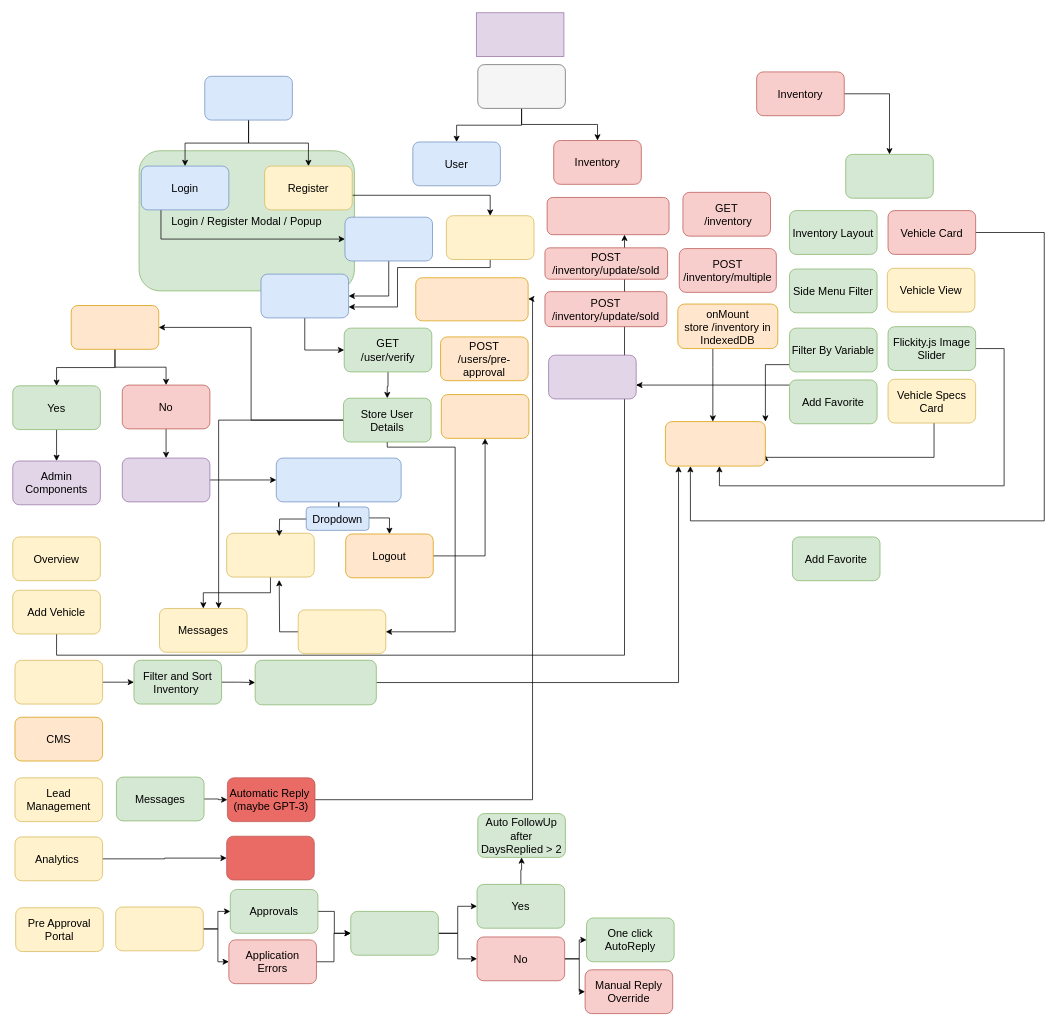
Some shapes in this 1063 by 1026 pixel diagram are drawn without their labels. Here are the shapes that lost their labels. From the top down, the centre of each, then its label:
the point at 520,34: Components
the point at 248,98: User Auth
the point at 521,86: API
the point at 889,176: Inventory Page
the point at 607,216: POST /inventory/add-vehicle
the point at 388,238: POST /user/login
the point at 490,237: POST /user/register
the point at 304,295: Store User Email
the point at 471,299: POST /user/messages/send
the point at 114,327: isAdmin?
the point at 592,376: POST /user/favorite
the point at 485,416: GET /user/logout
the point at 715,443: Filter IndexedDB
the point at 166,479: Profile Components
the point at 338,479: Navbar (Show Avatar if possible or show initials)
the point at 270,555: Profile Page
the point at 341,631: Favorites
the point at 58,682: Inventory Overview
the point at 315,682: Inventory Insights Dashboard (avg age, buckets, etc)
the point at 270,857: Analytics MW (TBD)
the point at 159,928: New Credit Applications
the point at 394,933: IsReplied?
